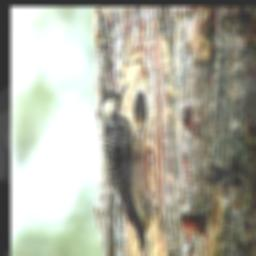Woodpecker: (94, 76, 157, 256)
